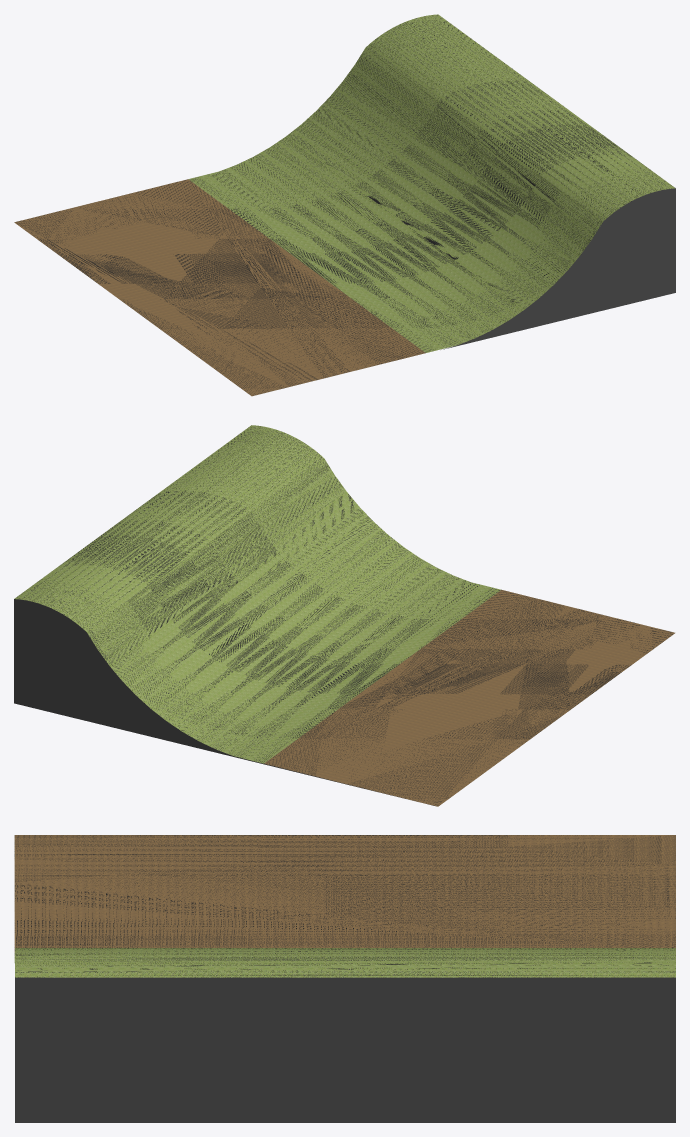
3 views of the same model, one above another, from view 1: azimuth 30°, elevation 25°; view 2: azimuth 150°, elevation 25°; view 3: azimuth 270°, elevation 25° (orthographic). The views are drawn at different scales.
Parts seen in each view (by area): view 1: SketchUp (×3); view 2: SketchUp (×3); view 3: SketchUp (×3).
Part boxes in pixels (<box>): SketchUp (×3): <box>14,14,675,396</box>; SketchUp (×3): <box>14,425,674,806</box>; SketchUp (×3): <box>14,835,675,1122</box>.
Bounding box in the file's own units: 1475 × 1433 × 353.
5 materials, 2 textured.
